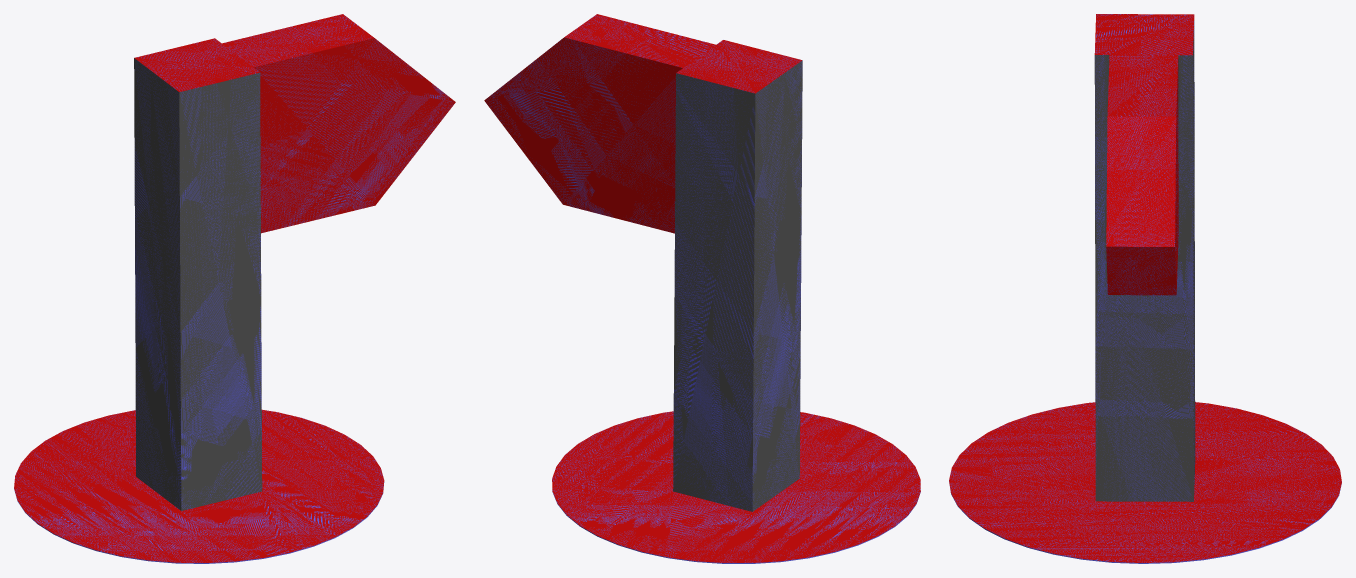
File: waypoint.dae
The picture shows the model from 3 angles, left to right: view 1: azimuth 30°, elevation 25°; view 2: azimuth 150°, elevation 25°; view 3: azimuth 270°, elevation 25°; orthographic projection. The views are drawn at different scales.
Visible parts, largest first — view 1: SketchUp (×4); view 2: SketchUp (×4); view 3: SketchUp (×4).
Boxes of the visible parts, x1,y1,x2,y2 form: SketchUp (×4): (14, 14, 455, 563); SketchUp (×4): (484, 14, 920, 563); SketchUp (×4): (949, 14, 1341, 563).
Size of the model in its own units: 19.6 by 15.75 by 19.83.
